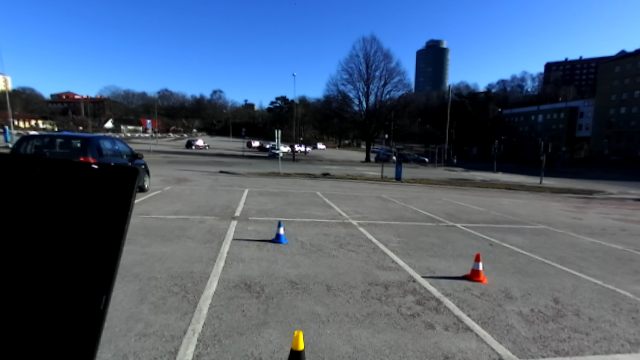blue: (271, 220, 289, 245)
orange: (462, 251, 489, 285)
